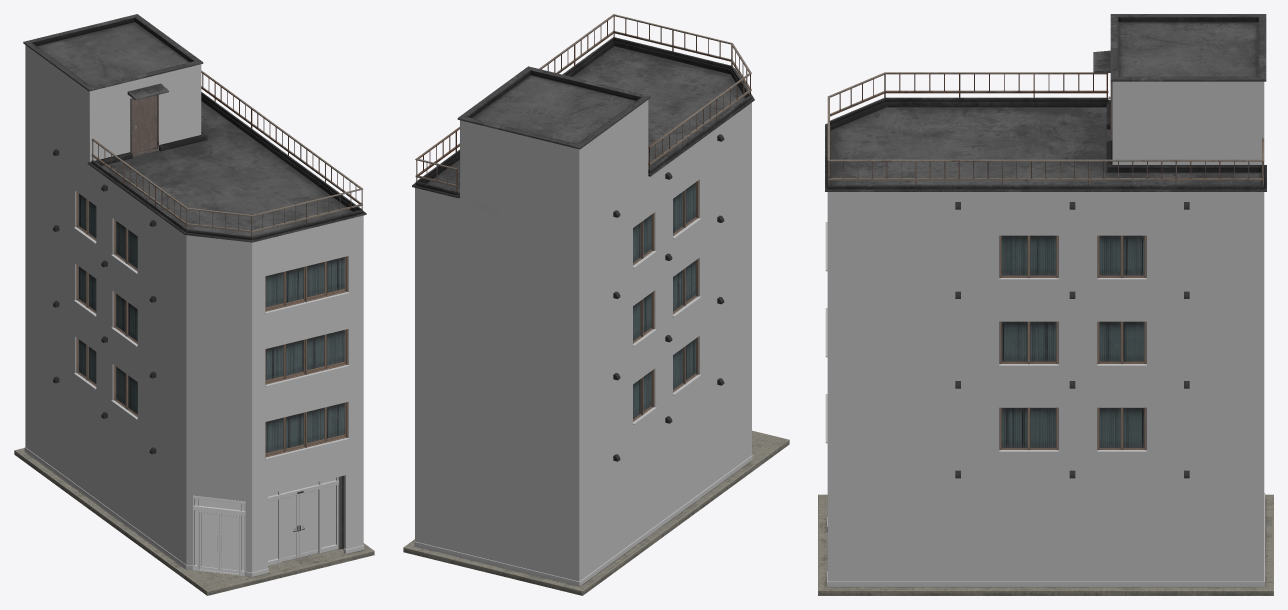
File: BldJ.fbx
3 renders of one model, left to right at view 1: azimuth 30°, elevation 25°; view 2: azimuth 150°, elevation 25°; view 3: azimuth 270°, elevation 25°, orthographic. The views are drawn at different scales.
Visible parts, largest first — view 1: BldJ_LOD0; view 2: BldJ_LOD0; view 3: BldJ_LOD0.
Boxes of the visible parts, box(x1,y1,x2,y2) form: BldJ_LOD0: box(14, 14, 374, 595); BldJ_LOD0: box(403, 14, 789, 595); BldJ_LOD0: box(818, 14, 1273, 595).
Bounding box in the file's own units: 600 × 1420 × 1200.
